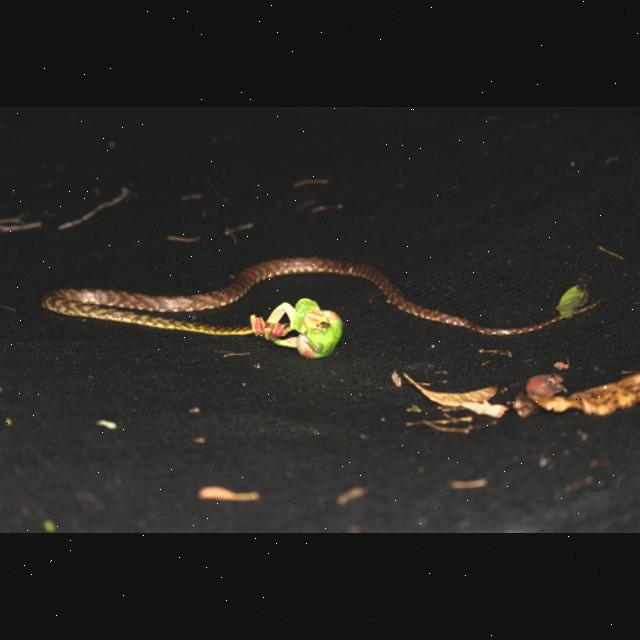snake: (30, 252, 614, 348)
